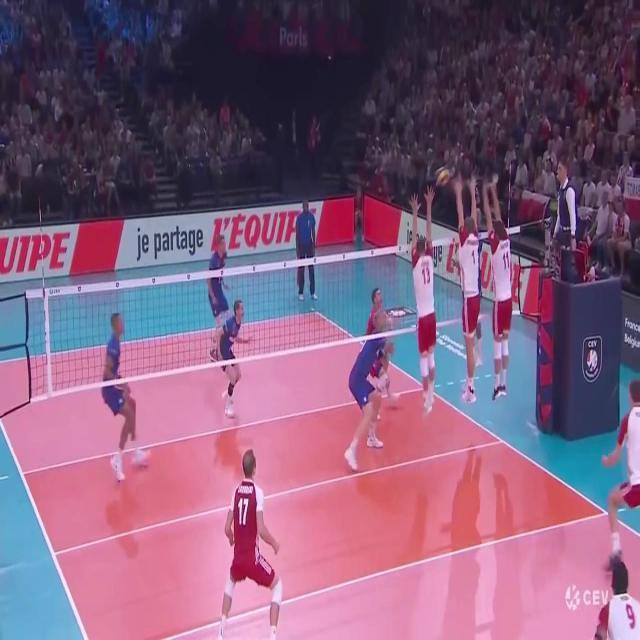volleyball: (435, 168, 449, 184)
